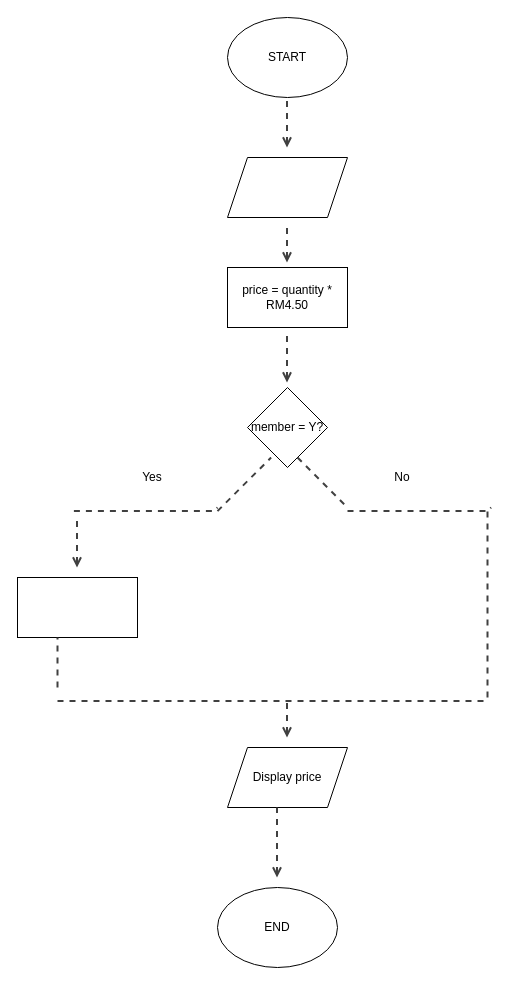
The diagram is 511 pixels wide and 985 high, and some of its shapes have lost their labels. The shapes that lost their labels are listed below. From the top down, each one's centre as x and y in pixels, then its label:
point 287,187: Read quantity , member
point 77,607: price = price * 10% / RM0.90
